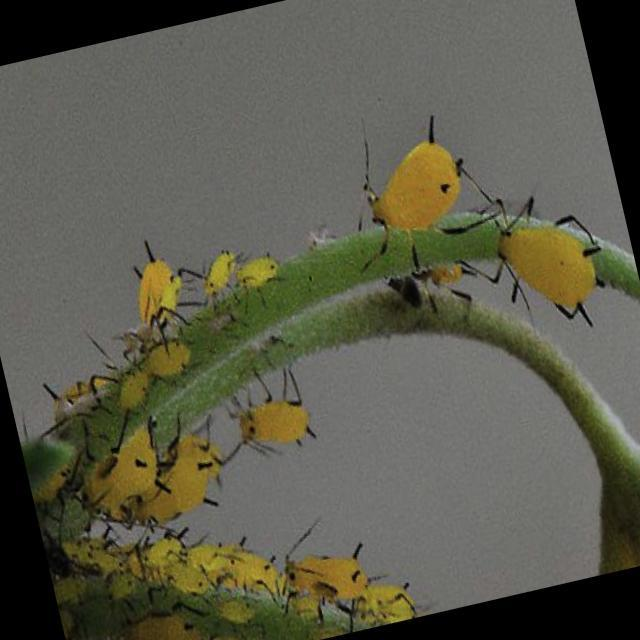aphid: (460, 168, 638, 375), (309, 92, 489, 277), (112, 228, 226, 354), (208, 352, 326, 472), (72, 417, 190, 518), (237, 248, 291, 314), (137, 334, 198, 389), (192, 249, 242, 316), (114, 359, 160, 417), (268, 550, 270, 553)
